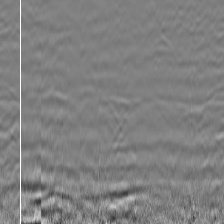cavities: (64, 43, 218, 179)
